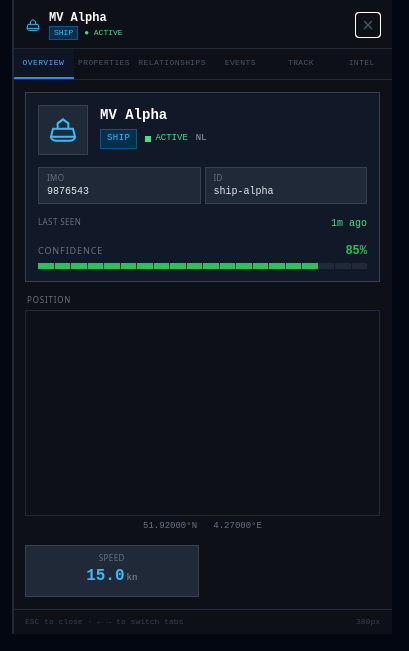
entityInspector - tab switching › switchingFromOverviewToPropertiesSwapsPanelContent
Expected: the 1st heading "MV Alpha" is shown, [49,11,107,25]
Expected: the text "ID" is shown, [214,172,223,183]
Click the tab "PROPERTIES" at [104, 64], box [74,49,134,79]
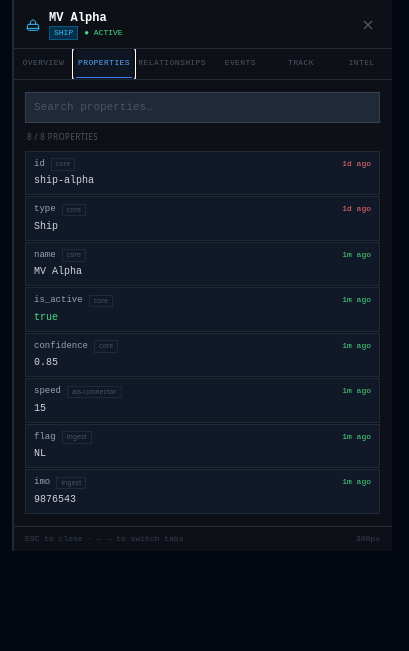
Expected: the field with placeholder "Search properties…" is shown, [25,92,380,122]
